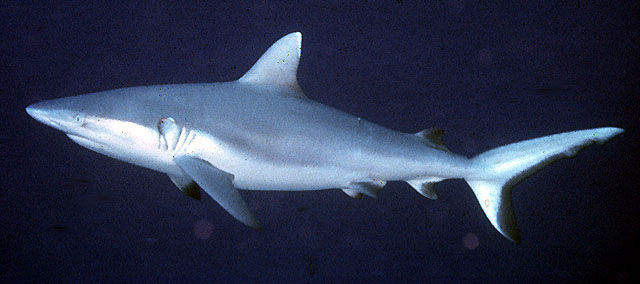fish: (26, 31, 625, 239)
